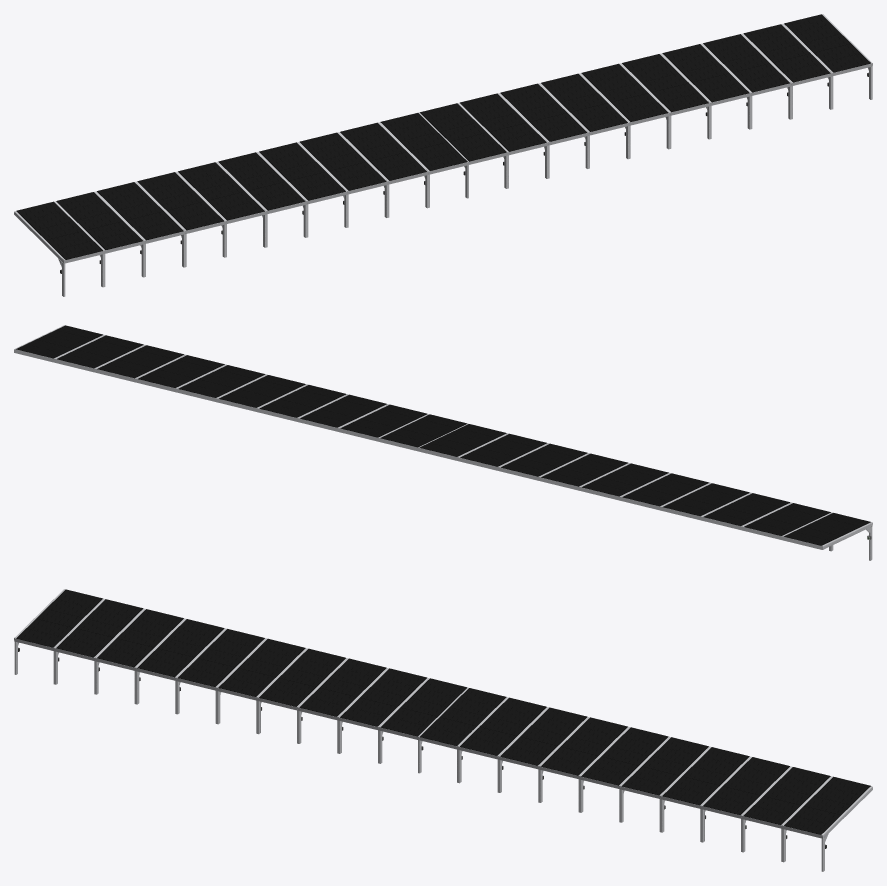
Rendered from Cap_20.glb.
3 renders of one model, top to bottom at view 1: azimuth 30°, elevation 25°; view 2: azimuth 150°, elevation 25°; view 3: azimuth 330°, elevation 25°, orthographic.
Visible parts, largest first — view 1: Left.001, Middle.043, Middle.006, Middle.041, Middle.008, Middle.038, Middle.045, Middle.002, Middle.040, Middle.007, Middle.042, Middle.003 (+8 smaller); view 2: Left.001, Middle.038, Middle.002, Middle.040, Middle.041, Middle.003, Middle.008, Middle.042, Middle.001, Middle.005, Middle.043, Middle.044 (+8 smaller); view 3: Middle.040, Middle.042, Middle.003, Middle.005, Middle.045, Middle.038, Middle.006, Middle.008, Middle.007, Middle.004, Middle.043, Middle.039 (+8 smaller).
Boxes of the visible parts, x1,y1,x2,y2 form: Left.001: [14, 201, 104, 296]; Middle.043: [700, 34, 791, 129]; Middle.006: [256, 142, 347, 237]; Middle.041: [619, 54, 710, 149]; Middle.008: [337, 122, 428, 217]; Middle.038: [497, 83, 588, 178]; Middle.045: [781, 14, 872, 109]; Middle.002: [94, 182, 185, 277]; Middle.040: [579, 63, 670, 159]; Middle.007: [297, 132, 388, 227]; Middle.042: [660, 44, 751, 139]; Middle.003: [134, 172, 226, 267]; Left.001: [782, 513, 872, 560]; Middle.038: [297, 394, 389, 431]; Middle.002: [701, 493, 792, 530]; Middle.040: [216, 375, 308, 412]; Middle.041: [176, 365, 267, 402]; Middle.003: [660, 483, 752, 520]; Middle.008: [458, 433, 549, 470]; Middle.042: [135, 355, 226, 392]; Middle.001: [742, 503, 833, 551]; Middle.005: [579, 463, 670, 500]; Middle.043: [95, 345, 186, 382]; Middle.044: [54, 335, 145, 372]; Middle.040: [578, 726, 668, 812]; Middle.042: [659, 746, 749, 832]; Middle.003: [134, 618, 224, 704]; Middle.005: [215, 638, 305, 724]; Middle.045: [781, 776, 872, 862]; Middle.038: [497, 707, 587, 792]; Middle.006: [256, 648, 345, 734]; Middle.008: [337, 668, 426, 753]; Middle.007: [297, 658, 386, 743]; Middle.004: [175, 628, 264, 714]; Middle.043: [700, 756, 789, 842]; Middle.039: [538, 717, 627, 802].
Bounding box in the file's own units: 53.1 × 3.11 × 5.7.
Materials: 5 (5 with a texture image).
